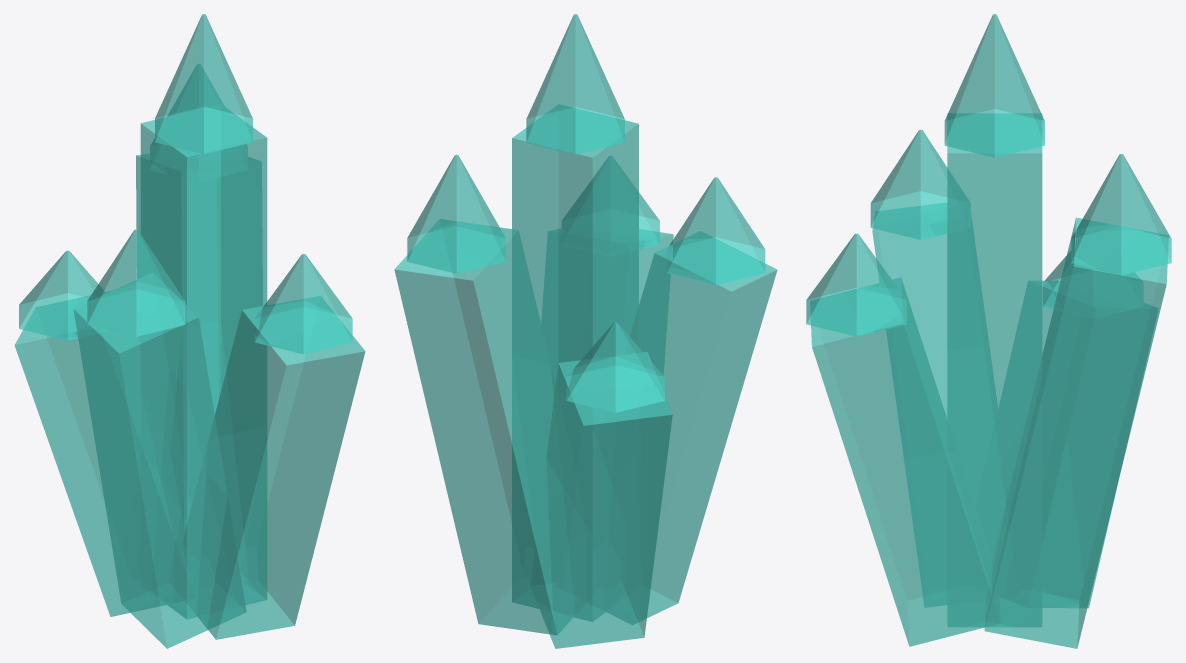
File: crystal_s.fbx
The picture shows the model from 3 angles, left to right: view 1: azimuth 30°, elevation 25°; view 2: azimuth 150°, elevation 25°; view 3: azimuth 270°, elevation 25°; orthographic projection. The views are drawn at different scales.
Parts seen in each view (by area): view 1: crystal_s; view 2: crystal_s; view 3: crystal_s.
Part boxes in pixels (x1,y1,x2,y2): crystal_s: [14, 14, 365, 648]; crystal_s: [394, 14, 777, 648]; crystal_s: [806, 14, 1171, 648].
Bounding box in the file's own units: 290 × 636 × 346.
